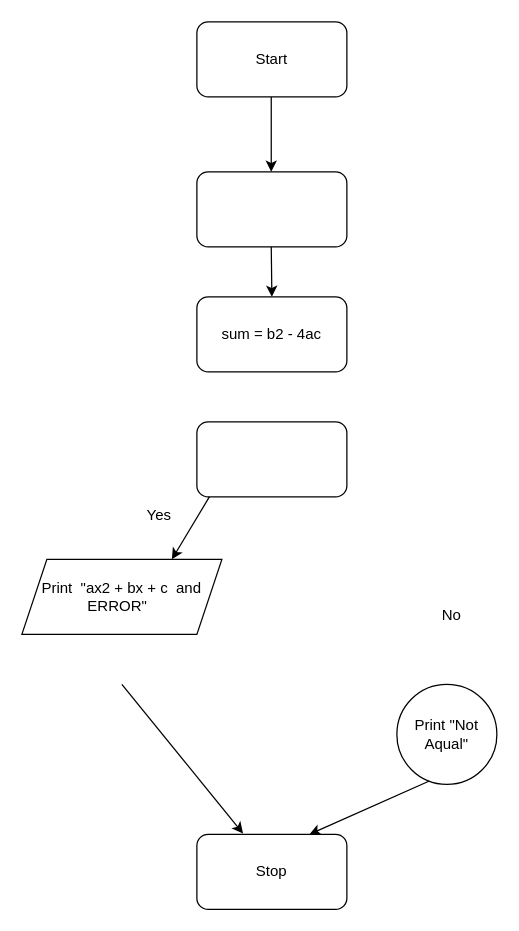
This 519x931 diagram has some shape labels left out. The box of each missing label's shape, as (x1, y1, x2, y2) in pixels:
If sum < 0: (196, 421, 347, 497)
Read a Read b Read c Read x: (196, 171, 347, 247)
